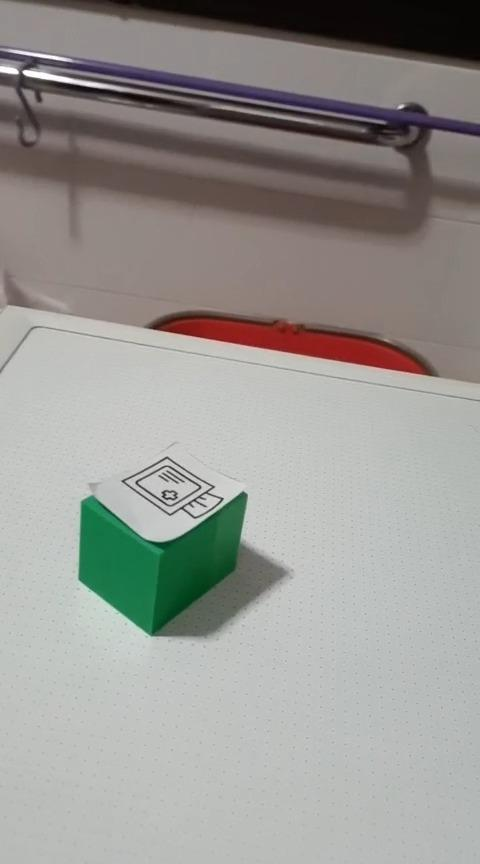Gauze: (76, 440, 248, 636)
